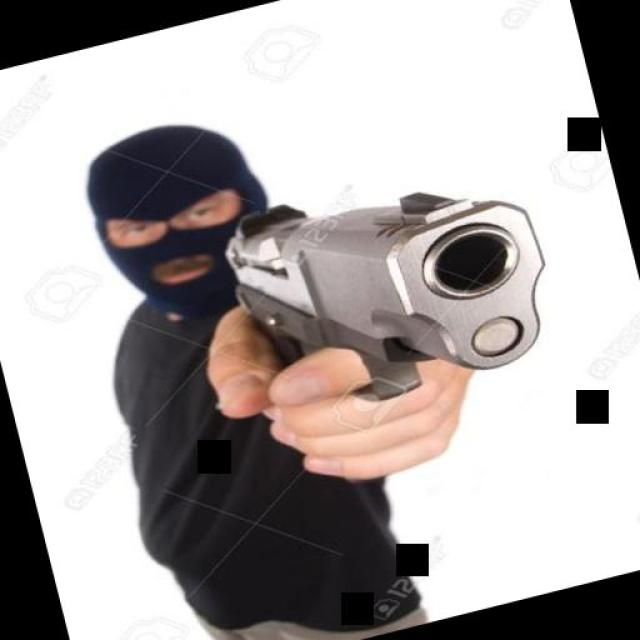gun: (189, 126, 571, 440)
